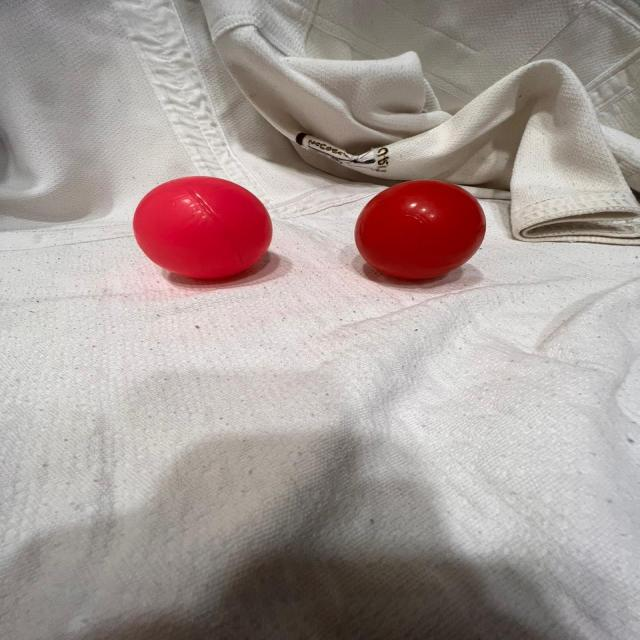ball: (130, 174, 277, 284), (354, 177, 490, 283)
